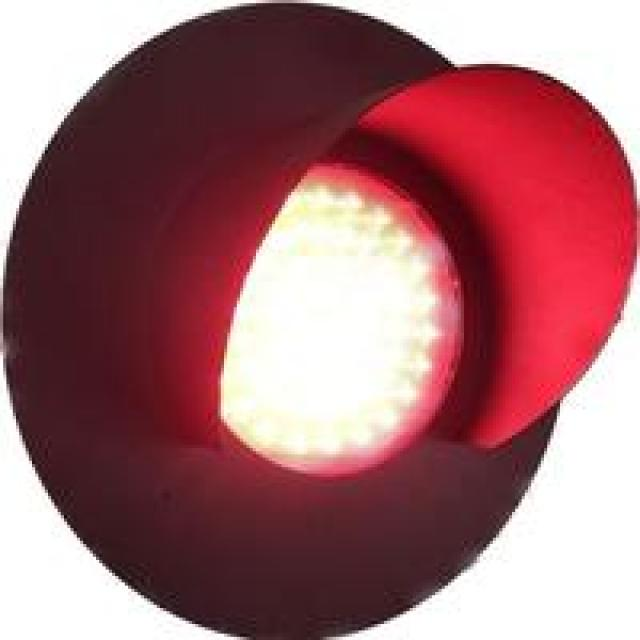red_light: (157, 81, 640, 465), (167, 100, 640, 473)
